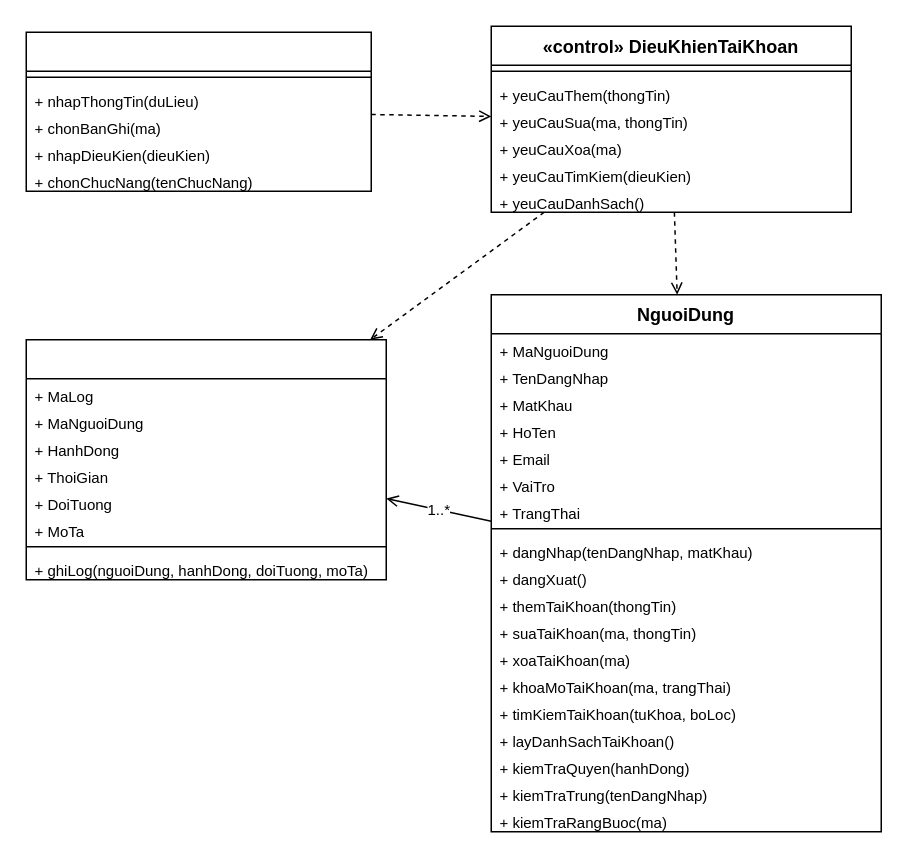
Some shapes in this 908 by 863 pixel diagram are drawn without their labels. The box of each missing label's shape, as (x1, y1, x2, y2) in pixels:
LichSuThaoTac: (25, 338, 386, 580)
«boundary» ManHinhTaiKhoan: (25, 31, 371, 191)
